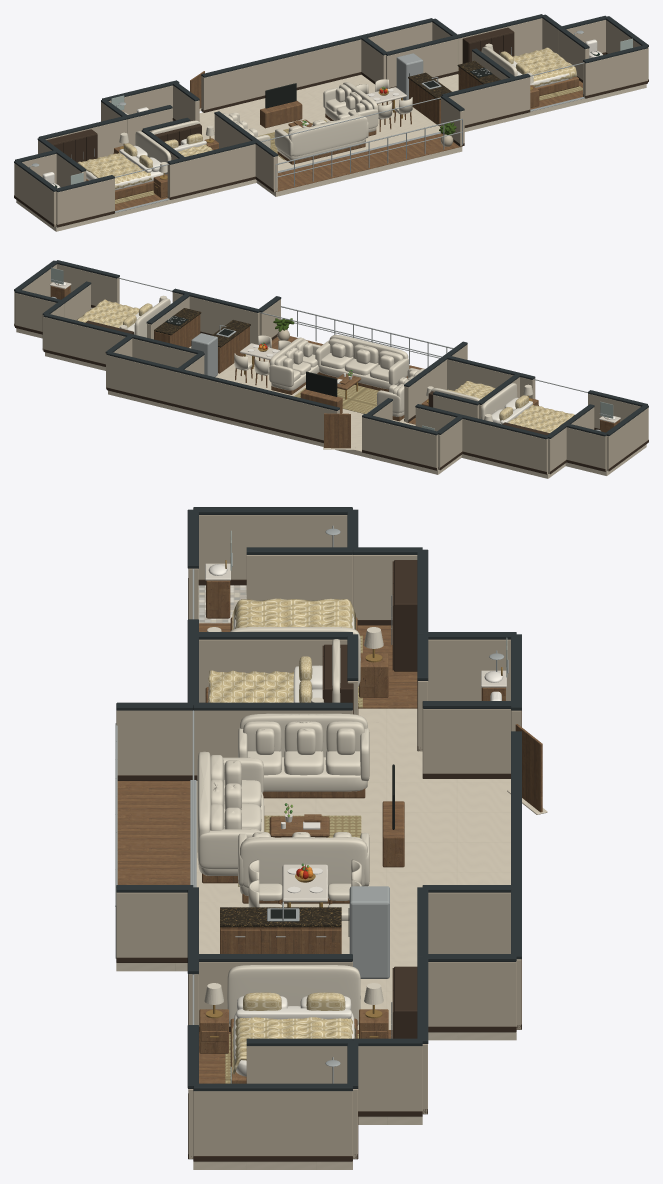
Rendered from A-jodi.glb.
The picture shows the model from 3 angles, top to bottom: view 1: azimuth 30°, elevation 25°; view 2: azimuth 150°, elevation 25°; view 3: azimuth 270°, elevation 25°; orthographic projection. The views are drawn at different scales.
Parts seen in each view (by area): view 1: Apartment foundation, Ivory masonry.003, Ivory masonry.013, Ivory masonry.010, Ivory masonry.009, Sofa back.001, Ivory masonry.014, Balcony · timber deck.001, Ivory masonry.025, Balcony · timber deck, Ivory masonry.015, Soft jacquard duvet with folds.004 (+42 smaller); view 2: Ivory masonry.003, Apartment foundation, Ivory masonry, Ivory masonry.002, Ivory masonry.005, Ivory masonry.010, Ivory masonry.015, Ivory masonry.013, Ivory masonry.016, Ivory masonry.009, Ivory masonry.021, Charcoal wall cut.003 (+38 smaller); view 3: Apartment foundation, Ivory masonry.008, Ivory masonry.015, Ivory masonry.023, Ivory masonry.004, Balcony · timber deck, Ivory masonry.024, Ivory masonry.012, Ivory masonry.018, Ivory masonry.011, Sofa back.003, Padded headboard.004 (+45 smaller).
Boxes of the visible parts, x1=… form: Apartment foundation: x1=16, y1=74, x2=646, y2=231; Ivory masonry.003: x1=201, y1=22, x2=432, y2=112; Ivory masonry.013: x1=167, y1=144, x2=255, y2=199; Ivory masonry.010: x1=449, y1=77, x2=530, y2=125; Ivory masonry.009: x1=583, y1=48, x2=647, y2=97; Sofa back.001: x1=289, y1=115, x2=367, y2=156; Ivory masonry.014: x1=56, y1=178, x2=114, y2=226; Balcony · timber deck.001: x1=276, y1=133, x2=461, y2=191; Ivory masonry.025: x1=386, y1=39, x2=457, y2=87; Balcony · timber deck: x1=278, y1=135, x2=434, y2=190; Ivory masonry.015: x1=14, y1=163, x2=56, y2=226; Soft jacquard duvet with folds.004: x1=513, y1=47, x2=577, y2=86; Ivory masonry.003: x1=107, y1=355, x2=339, y2=440; Apartment foundation: x1=16, y1=328, x2=646, y2=478; Ivory masonry: x1=462, y1=419, x2=547, y2=474; Ivory masonry.002: x1=362, y1=417, x2=437, y2=470; Ivory masonry.005: x1=43, y1=317, x2=125, y2=364; Ivory masonry.010: x1=172, y1=292, x2=259, y2=344; Ivory masonry.015: x1=606, y1=408, x2=648, y2=471; Ivory masonry.013: x1=447, y1=359, x2=535, y2=399; Ivory masonry.016: x1=566, y1=427, x2=606, y2=470; Ivory masonry.009: x1=57, y1=264, x2=119, y2=305; Ivory masonry.021: x1=404, y1=359, x2=446, y2=422; Charcoal wall cut.003: x1=106, y1=352, x2=339, y2=410; Apartment foundation: x1=116, y1=708, x2=516, y2=1169; Ivory masonry.008: x1=193, y1=1091, x2=352, y2=1155; Ivory masonry.015: x1=198, y1=515, x2=347, y2=579; Ivory masonry.023: x1=422, y1=708, x2=511, y2=773; Ivory masonry.004: x1=428, y1=961, x2=516, y2=1026; Balcony · timber deck: x1=117, y1=781, x2=190, y2=884; Ivory masonry.024: x1=428, y1=892, x2=510, y2=953; Ivory masonry.012: x1=116, y1=710, x2=192, y2=775; Ivory masonry.018: x1=246, y1=555, x2=352, y2=605; Ivory masonry.011: x1=116, y1=892, x2=187, y2=957; Sofa back.003: x1=240, y1=837, x2=367, y2=888; Padded headboard.004: x1=227, y1=965, x2=360, y2=1025.
Bounding box in the file's own units: 19.46 × 1.37 × 6.12.
24 materials, 6 textured.
